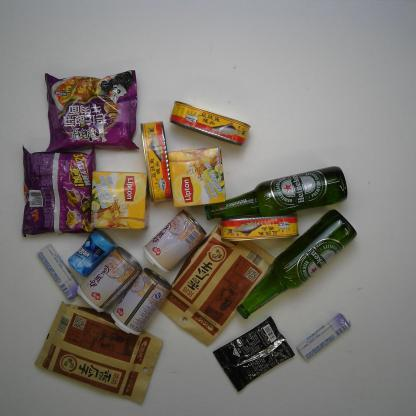Alcohol: (233, 206, 359, 320), (203, 165, 348, 222)
Candy: (295, 311, 353, 363), (37, 243, 83, 302)
Canned Food: (110, 265, 174, 339), (76, 246, 144, 314), (142, 207, 207, 274), (166, 98, 252, 148), (137, 119, 176, 204), (219, 210, 301, 244)
Dried Food: (152, 220, 280, 350), (31, 300, 165, 406)
Gum: (66, 227, 118, 278)
Instant Drink: (212, 316, 296, 394), (86, 168, 151, 236), (164, 145, 227, 209)
Instant Noodles: (37, 66, 143, 156), (16, 141, 100, 239)
